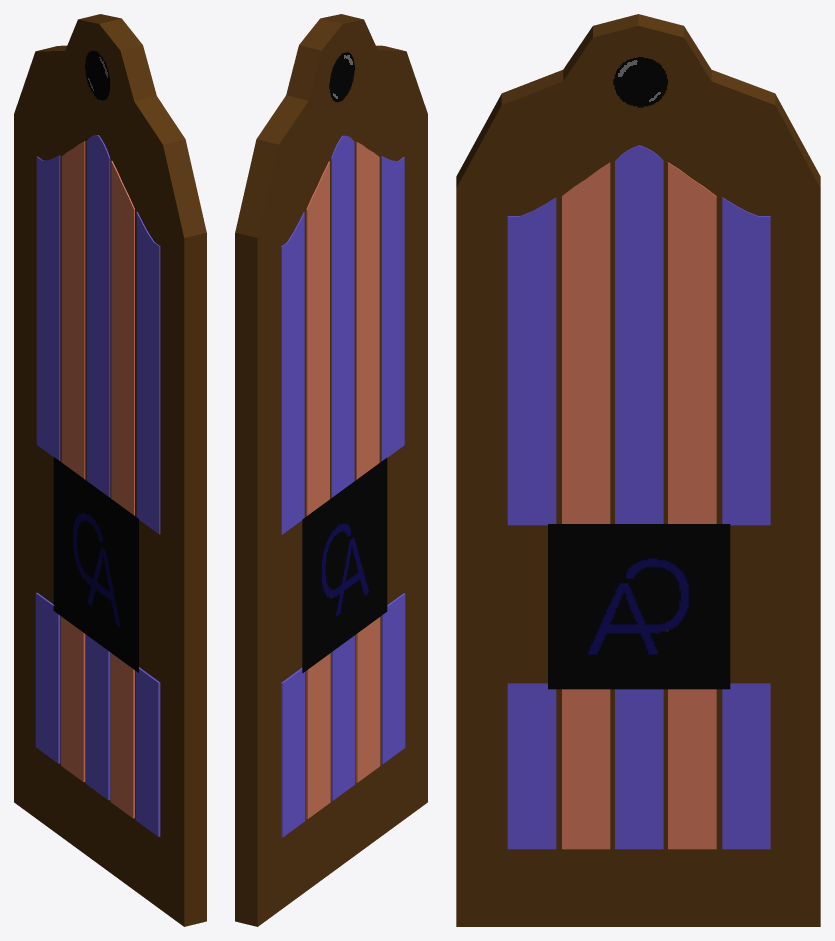
Rendered from Door.fbx.
3 renders of one model, left to right at view 1: azimuth 30°, elevation 25°; view 2: azimuth 150°, elevation 25°; view 3: azimuth 270°, elevation 25°, orthographic. The views are drawn at different scales.
Parts seen in each view (by area): view 1: Cube, Cube.003, Cube.002, CA.001, Cube.001, Cube.005, Cube.006, Cube.004, Ball; view 2: Cube, Cube.003, Cube.002, CA.001, Cube.001, Cube.005, Cube.006, Cube.004, Ball; view 3: Cube, Cube.003, Cube.002, CA.001, Cube.001, Cube.005, Cube.006, Cube.004, Ball.
Part boxes in pixels (x1,y1,x2,y2): Cube: (14, 14, 206, 926); Cube.003: (61, 141, 134, 515); Cube.002: (36, 155, 160, 534); CA.001: (53, 457, 138, 672); Cube.001: (86, 135, 110, 497); Cube.005: (35, 592, 160, 836); Cube.006: (61, 616, 134, 818); Cube.004: (85, 634, 110, 800); Ball: (85, 50, 110, 100); Cube: (235, 14, 427, 926); Cube.003: (306, 141, 379, 516); Cube.002: (281, 155, 404, 534); CA.001: (302, 457, 387, 673); Cube.001: (331, 135, 354, 498); Cube.005: (281, 593, 405, 837); Cube.006: (306, 617, 380, 818); Cube.004: (331, 635, 355, 800); Ball: (329, 52, 354, 102); Cube: (456, 14, 820, 926); Cube.003: (562, 162, 716, 523); Cube.002: (507, 197, 770, 525); CA.001: (548, 524, 730, 689); Cube.001: (615, 145, 663, 523); Cube.005: (507, 683, 770, 849); Cube.006: (562, 689, 716, 849); Cube.004: (615, 689, 663, 849); Ball: (613, 57, 667, 107).
Bounding box in the file's own units: 56.11 × 1636 × 600.
Materials: 5 (2 with a texture image).
